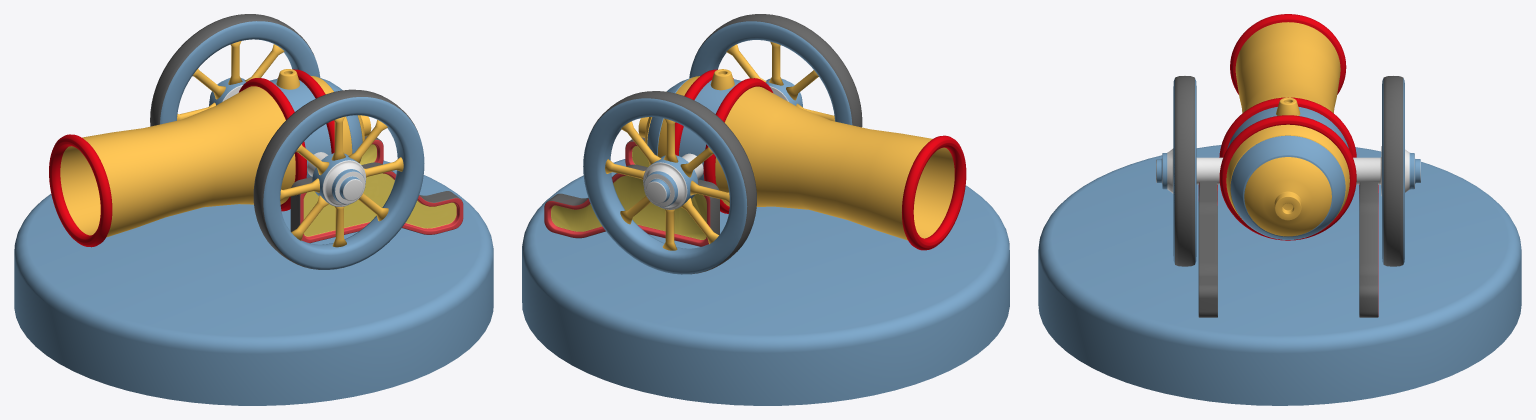
The model's file is DM_Cannon_1.fbx.
The picture shows the model from 3 angles, left to right: view 1: azimuth 30°, elevation 25°; view 2: azimuth 150°, elevation 25°; view 3: azimuth 270°, elevation 25°; orthographic projection.
Visible parts, largest first — view 1: DM_Cannon_1, Pipe, Wheel01, Wheel02, Stand, DM_Cannon_7, Stand2, DM_Cannon_8; view 2: DM_Cannon_1, Pipe, Wheel02, Wheel01, Stand2, DM_Cannon_8, Stand; view 3: DM_Cannon_1, Pipe, Wheel01, Wheel02, Stand2, Stand, DM_Cannon_7, DM_Cannon_8.
Boxes of the visible parts, <box> form: DM_Cannon_1: <box>14,160,493,405</box>; Pipe: <box>49,69,371,247</box>; Wheel01: <box>253,89,424,269</box>; Wheel02: <box>150,14,320,126</box>; Stand: <box>290,162,463,243</box>; DM_Cannon_7: <box>307,152,366,206</box>; Stand2: <box>359,136,383,164</box>; DM_Cannon_8: <box>209,78,245,105</box>; DM_Cannon_1: <box>522,159,1009,405</box>; Pipe: <box>638,69,966,250</box>; Wheel02: <box>583,91,756,274</box>; Wheel01: <box>689,14,862,127</box>; Stand2: <box>544,164,719,246</box>; DM_Cannon_8: <box>643,153,703,209</box>; Stand: <box>625,137,649,167</box>; DM_Cannon_1: <box>1038,145,1521,405</box>; Pipe: <box>1219,14,1356,240</box>; Wheel01: <box>1173,76,1196,266</box>; Wheel02: <box>1382,76,1404,266</box>; Stand2: <box>1359,182,1378,317</box>; Stand: <box>1198,182,1217,317</box>; DM_Cannon_7: <box>1156,148,1222,193</box>; DM_Cannon_8: <box>1353,146,1420,195</box>.
Bounding box in the file's own units: 3.23 × 1.76 × 3.23.
